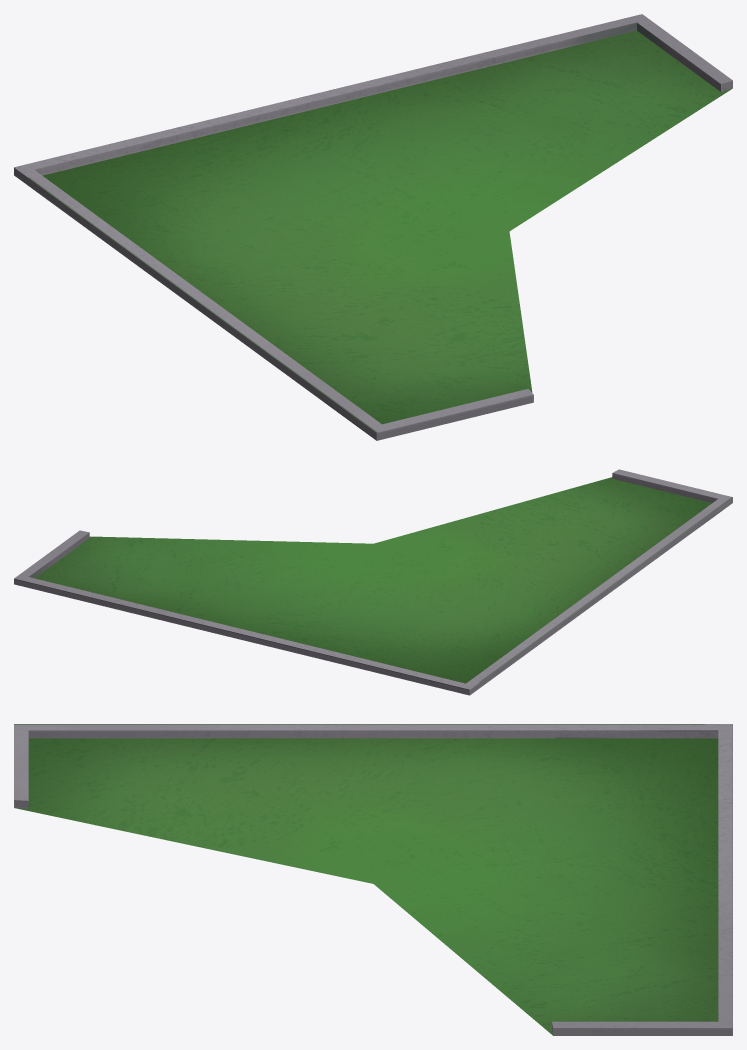
Rendered from Park01.fbx.
3 views of the same model, one above another, from view 1: azimuth 30°, elevation 25°; view 2: azimuth 150°, elevation 25°; view 3: azimuth 270°, elevation 25° (orthographic). The views are drawn at different scales.
Visible parts, largest first — view 1: Park1; view 2: Park1; view 3: Park1.
Part boxes in pixels (<box>): Park1: <box>14,14,732,440</box>; Park1: <box>14,469,732,695</box>; Park1: <box>14,724,732,1035</box>.
Size of the model in its own units: 2000 by 24.44 by 2000.
